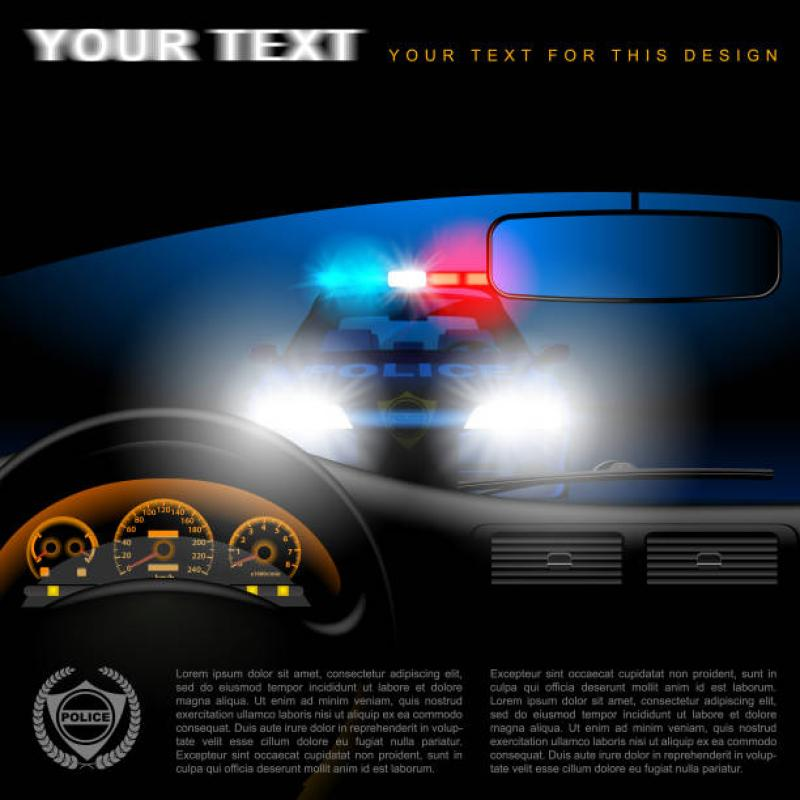AmbulanceSiren: (297, 260, 543, 308)
